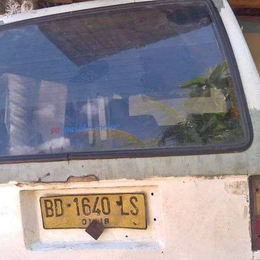plate: (38, 195, 148, 229)
